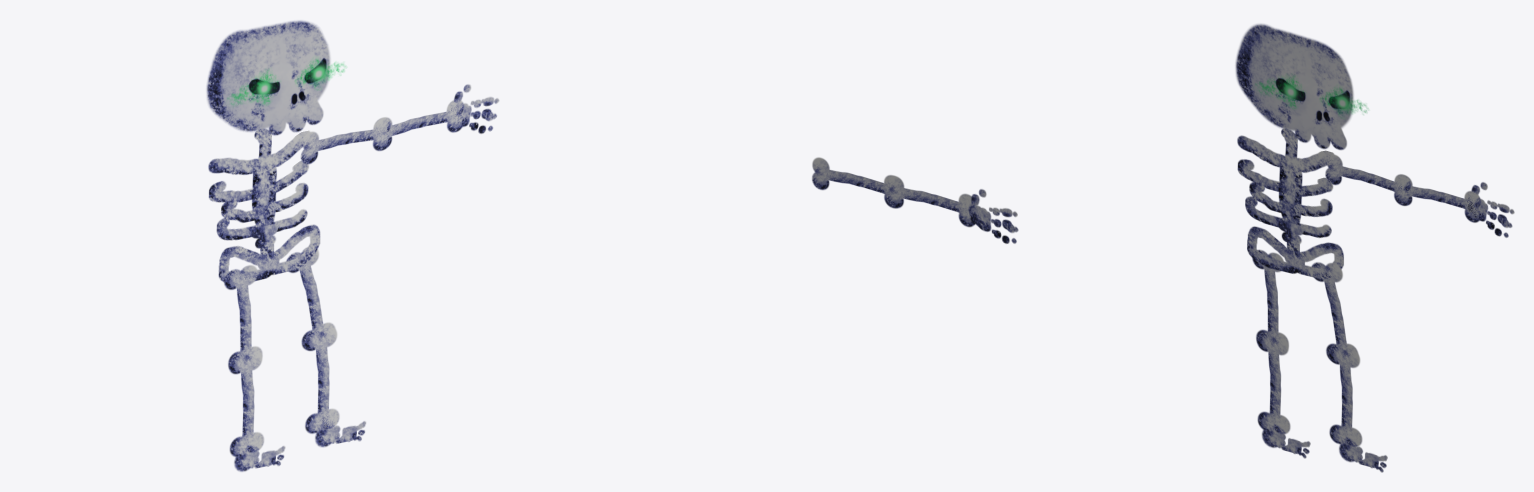
File: Skeleton_Unrigged.glb
3 views of the same model, side by side, from view 1: azimuth 30°, elevation 25°; view 2: azimuth 150°, elevation 25°; view 3: azimuth 330°, elevation 25° (orthographic). The views are drawn at different scales.
Visible parts, largest first — view 1: Head, Torso, Hips, LeftCalf, RightCalf, RightArm, LeftThigh, RightForearm, RightThigh, RightHand, RightFoot, LeftFoot; view 2: LeftForearm, LeftArm, LeftHand; view 3: Head, Torso, Hips, RightCalf, LeftCalf, RightArm, RightThigh, RightForearm, LeftThigh, RightHand, RightFoot, LeftFoot.
Boxes of the visible parts, x1,y1,x2,y2 form: Head: [206, 20, 345, 135]; Torso: [208, 128, 309, 240]; Hips: [218, 224, 320, 282]; LeftCalf: [228, 350, 264, 457]; RightCalf: [303, 326, 339, 433]; RightArm: [300, 118, 390, 164]; LeftThigh: [224, 265, 262, 366]; RightForearm: [375, 99, 464, 149]; RightThigh: [286, 246, 335, 350]; RightHand: [451, 84, 499, 133]; RightFoot: [315, 414, 365, 447]; LeftFoot: [234, 446, 285, 471]; LeftForearm: [886, 175, 975, 227]; LeftArm: [812, 157, 896, 208]; LeftHand: [968, 189, 1018, 243]; Head: [1235, 24, 1367, 150]; Torso: [1237, 128, 1333, 237]; Hips: [1247, 220, 1343, 279]; RightCalf: [1328, 345, 1362, 447]; LeftCalf: [1256, 332, 1290, 434]; RightArm: [1325, 154, 1410, 205]; RightThigh: [1311, 262, 1358, 361]; RightForearm: [1396, 174, 1481, 222]; LeftThigh: [1252, 249, 1288, 346]; RightHand: [1467, 182, 1514, 237]; RightFoot: [1339, 441, 1387, 472]; LeftFoot: [1262, 429, 1310, 458].
Size of the model in its own units: 4.53 by 4.04 by 7.43e-07.
Materials: 1 (1 with a texture image).
